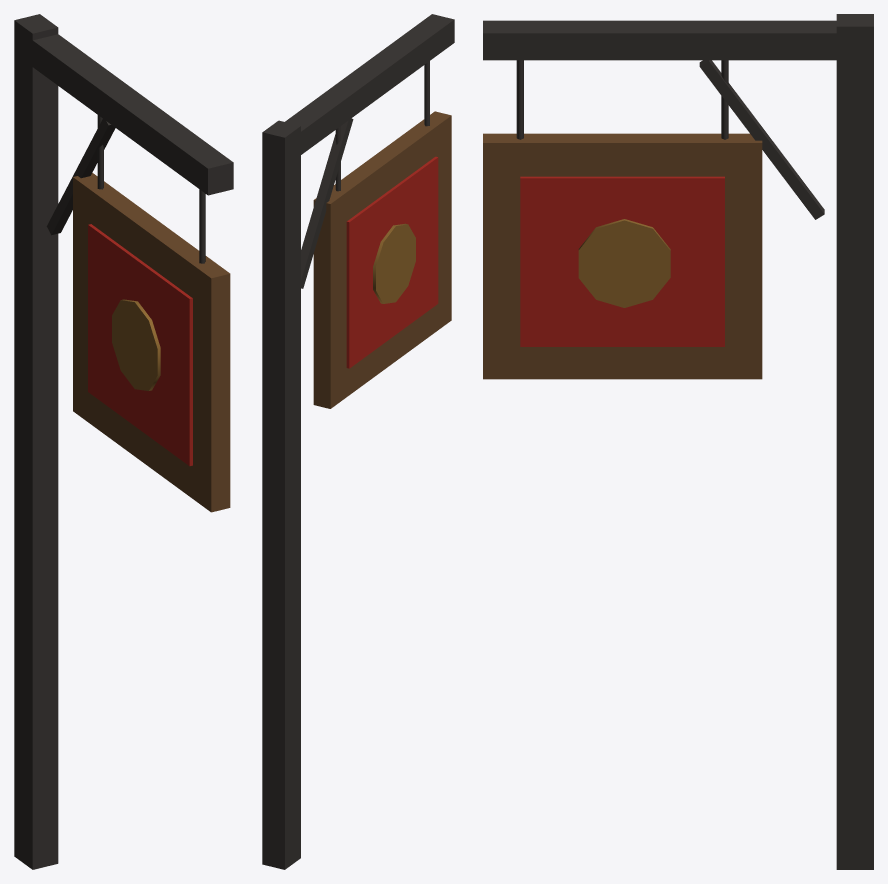
Rendered from mv_shop_sign.glb.
3 views of the same model, side by side, from view 1: azimuth 30°, elevation 25°; view 2: azimuth 150°, elevation 25°; view 3: azimuth 270°, elevation 25° (orthographic). The views are drawn at different scales.
Parts seen in each view (by area): view 1: mv_shop_sign; view 2: mv_shop_sign; view 3: mv_shop_sign.
Part boxes in pixels (x1,y1,x2,y2): mv_shop_sign: (14,14,233,869); mv_shop_sign: (262,14,454,869); mv_shop_sign: (483,14,873,869).
Size of the model in its own units: 0.1 by 2.5 by 1.05.
